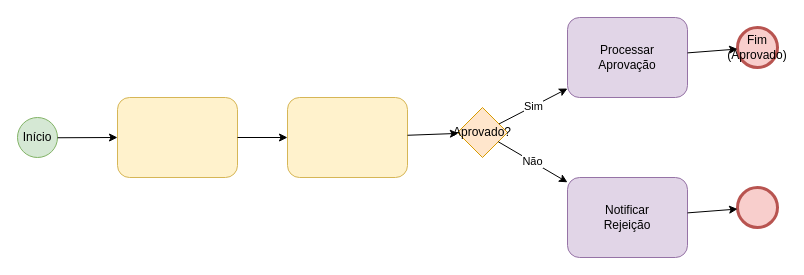
Image size: 804x275. Some labels were removed from this diagram. Here are the shapes that lost their labels. From the top down, the centre of each, then its label:
At (177,137): "Submeter Solicitação".
At (347,137): "Revisar Solicitação".
At (757,207): "Fim (Rejeitado)".
